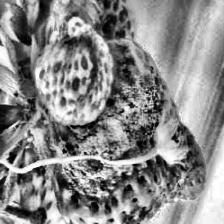Gray Mold: (31, 37, 180, 224)
